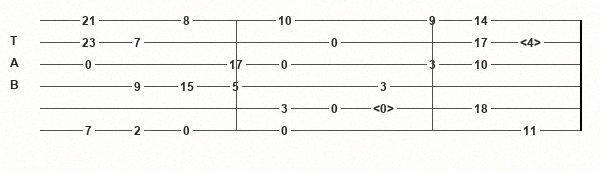0: (85, 58, 96, 71), (183, 124, 194, 137), (281, 124, 292, 137), (281, 58, 292, 71), (331, 36, 342, 49), (331, 102, 342, 115)
10: (278, 14, 296, 27), (474, 58, 492, 71)
11: (523, 124, 541, 137)
14: (474, 14, 492, 27)
15: (180, 80, 198, 93)
17: (229, 58, 247, 71), (474, 36, 492, 49)
18: (474, 102, 492, 115)
2: (134, 124, 145, 137)
21: (82, 14, 100, 27)
23: (82, 36, 100, 49)
3: (281, 102, 292, 115), (380, 80, 391, 93), (429, 58, 440, 71)
5: (232, 80, 243, 93)
7: (85, 124, 96, 137), (134, 36, 145, 49)
8: (183, 14, 194, 27)
9: (134, 80, 145, 93), (429, 14, 440, 27)
harmonic: (373, 102, 398, 115), (520, 36, 545, 49)
